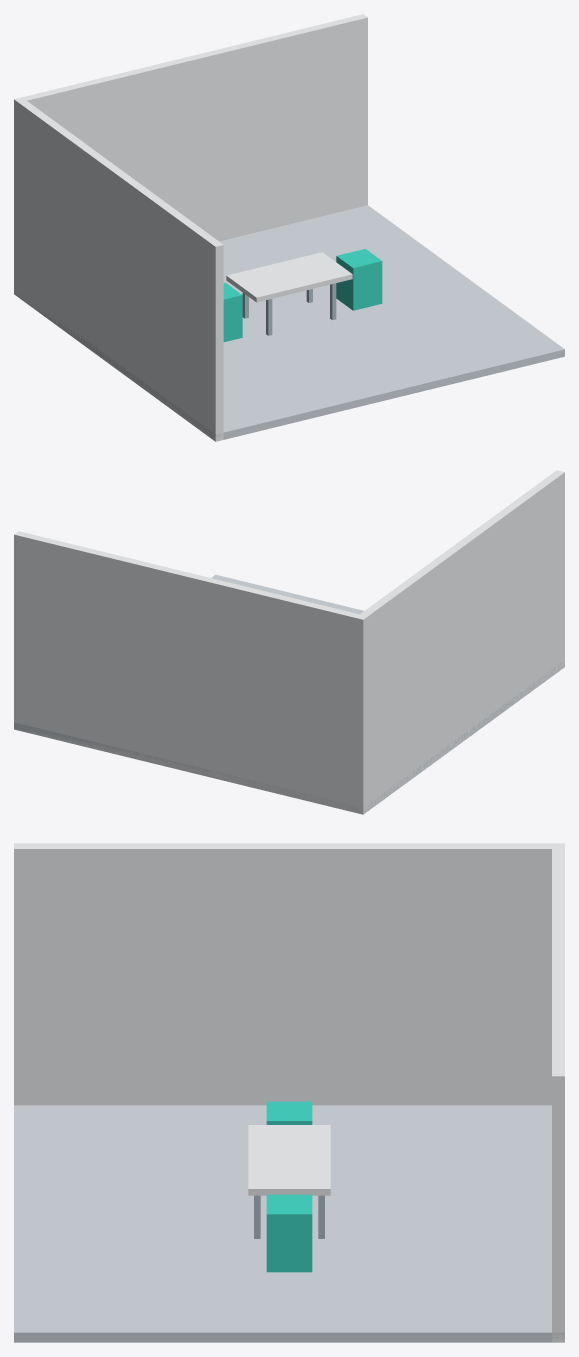
3 views of the same model, one above another, from view 1: azimuth 30°, elevation 25°; view 2: azimuth 150°, elevation 25°; view 3: azimuth 270°, elevation 25° (orthographic). The views are drawn at different scales.
Parts seen in each view (by area): view 1: Exhibition Booth Concept; view 2: Exhibition Booth Concept; view 3: Exhibition Booth Concept.
Part boxes in pixels (x1=…): Exhibition Booth Concept: x1=14, y1=14, x2=564, y2=441; Exhibition Booth Concept: x1=14, y1=470, x2=564, y2=814; Exhibition Booth Concept: x1=14, y1=843, x2=564, y2=1342.
Size of the model in its own units: 6 by 3.2 by 6.
